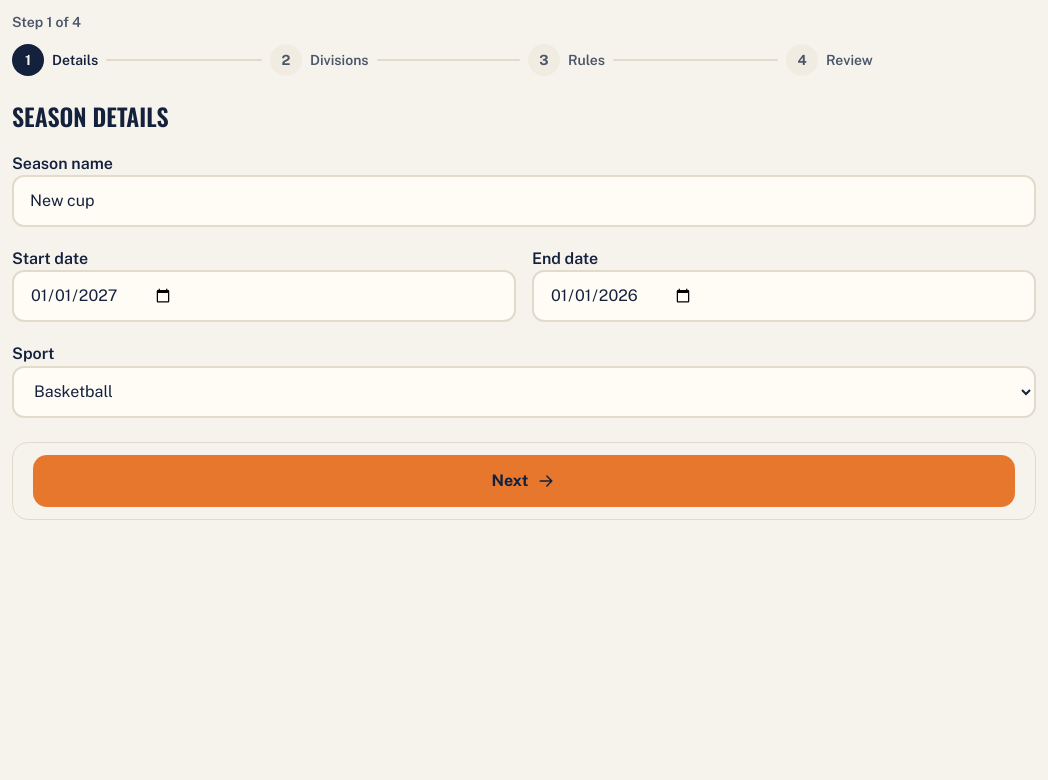
Test case: season setup wizard › rejects reversed dates before moving to divisions
Click the button "Next": click(524, 481) [33,455,1015,507]
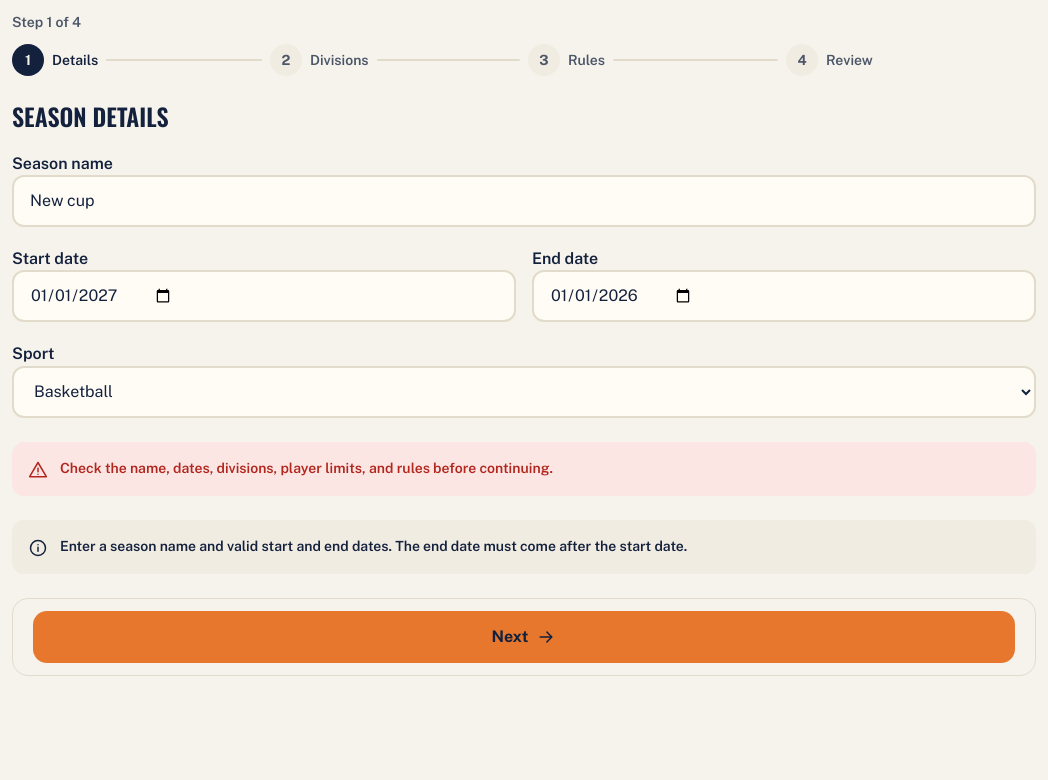
Expected: the heading "Season details" is shown, [12,98,169,134]
Expected: the 2nd message shows "Enter a season name and valid start and end dates. The end date must come after the start date.", [60,538,687,554]
